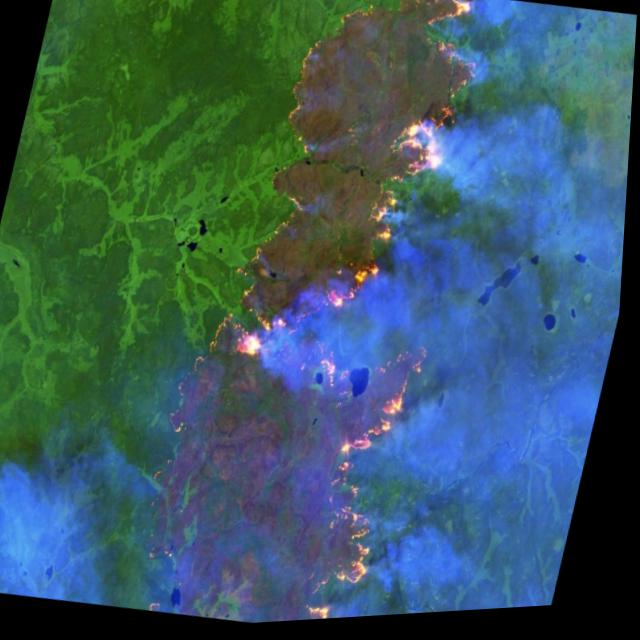fire: (120, 0, 510, 633)
